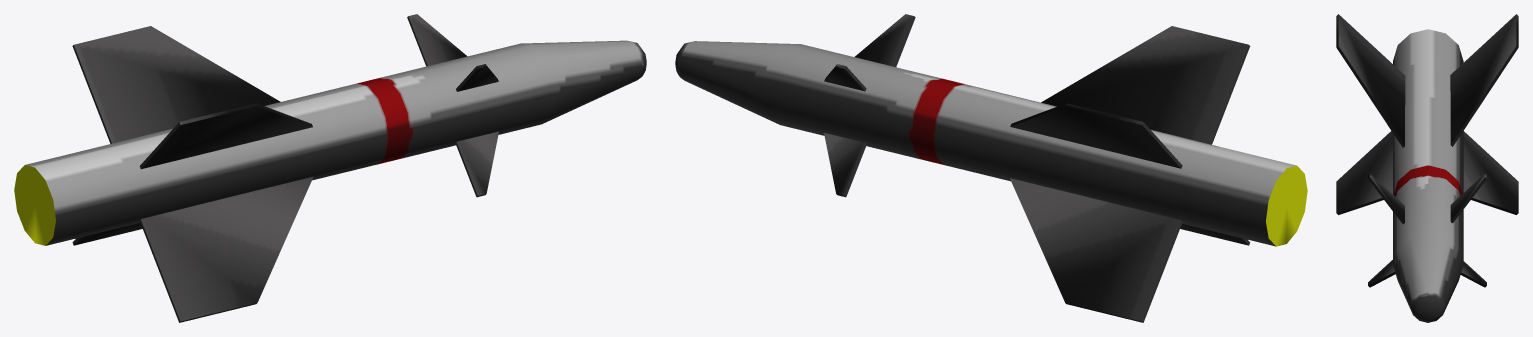
File: missile.fbx
3 renders of one model, left to right at view 1: azimuth 30°, elevation 25°; view 2: azimuth 150°, elevation 25°; view 3: azimuth 270°, elevation 25°, orthographic. The views are drawn at different scales.
Parts seen in each view (by area): view 1: AA-3 anab; view 2: AA-3 anab; view 3: AA-3 anab.
Boxes of the visible parts, x1,y1,x2,y2 form: AA-3 anab: (14, 14, 646, 322); AA-3 anab: (675, 14, 1307, 322); AA-3 anab: (1336, 14, 1518, 322).
Bounding box in the file's own units: 0.0669 × 0.0686 × 0.2173.
Materials: 1 (1 with a texture image).
